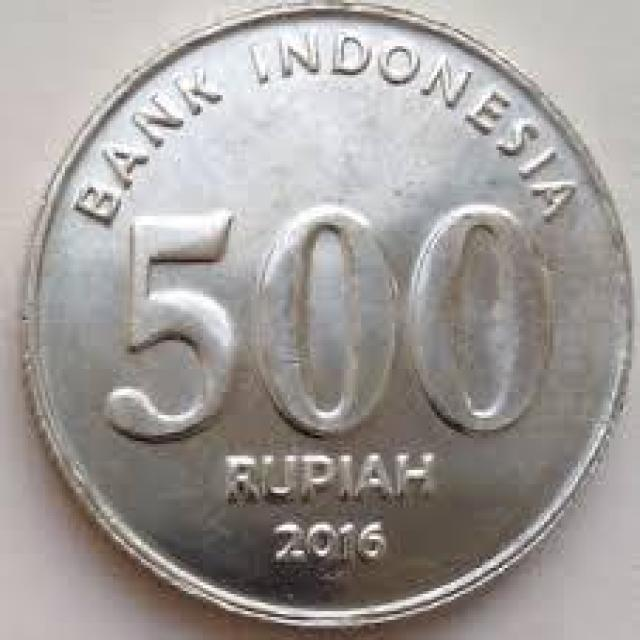500-kuning: (26, 6, 630, 626)
